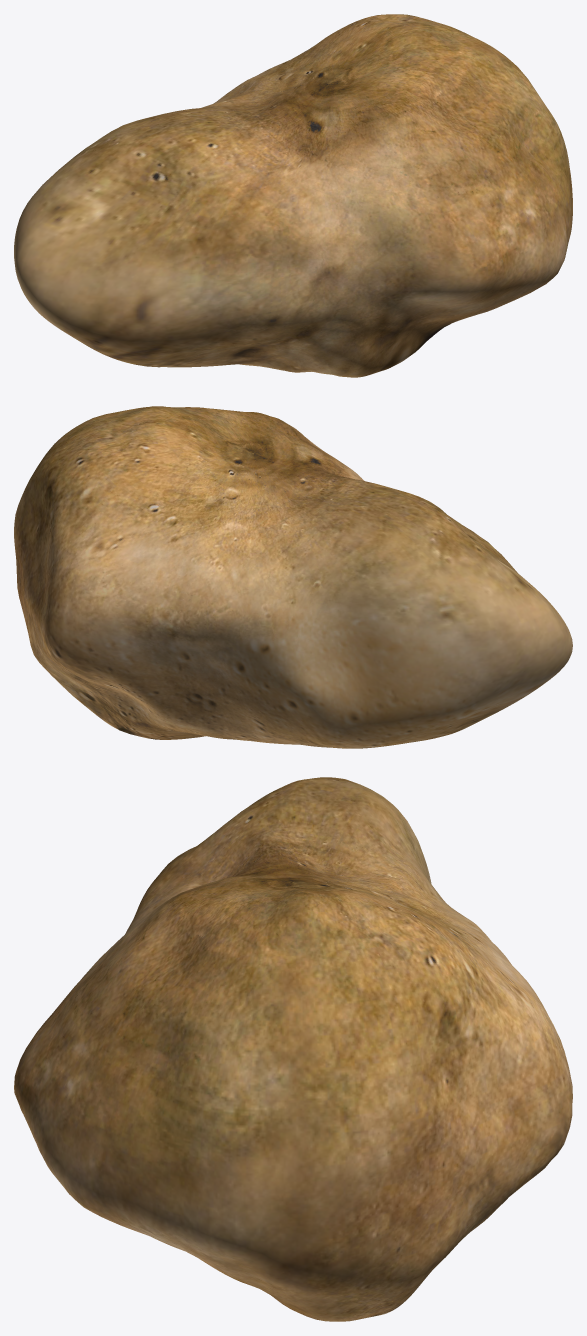
The model's file is gaspra.glb.
The picture shows the model from 3 angles, top to bottom: view 1: azimuth 30°, elevation 25°; view 2: azimuth 150°, elevation 25°; view 3: azimuth 270°, elevation 25°; orthographic projection. The views are drawn at different scales.
Visible parts, largest first — view 1: gaspra; view 2: gaspra; view 3: gaspra.
Part boxes in pixels (<box>): gaspra: <box>14,14,572,377</box>; gaspra: <box>14,406,572,748</box>; gaspra: <box>14,777,572,1321</box>.
Bounding box in the file's own units: 18.07 × 10.14 × 12.38.
Materials: 1 (1 with a texture image).
